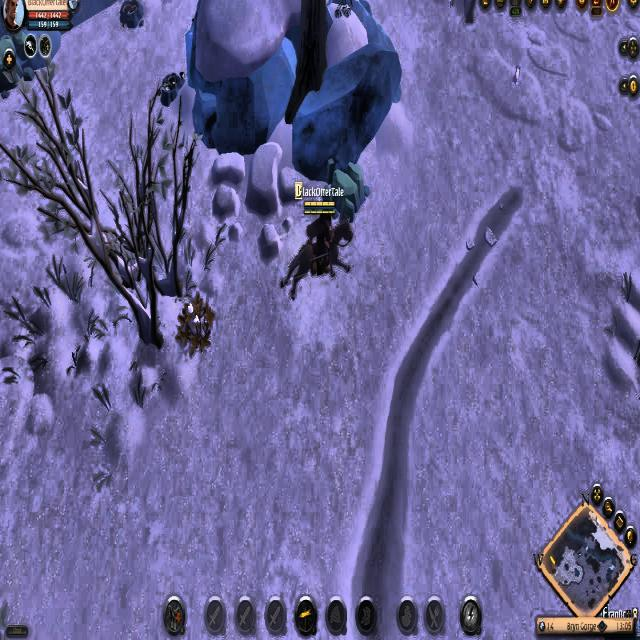sandstone: (323, 155, 371, 220), (0, 29, 39, 97)
